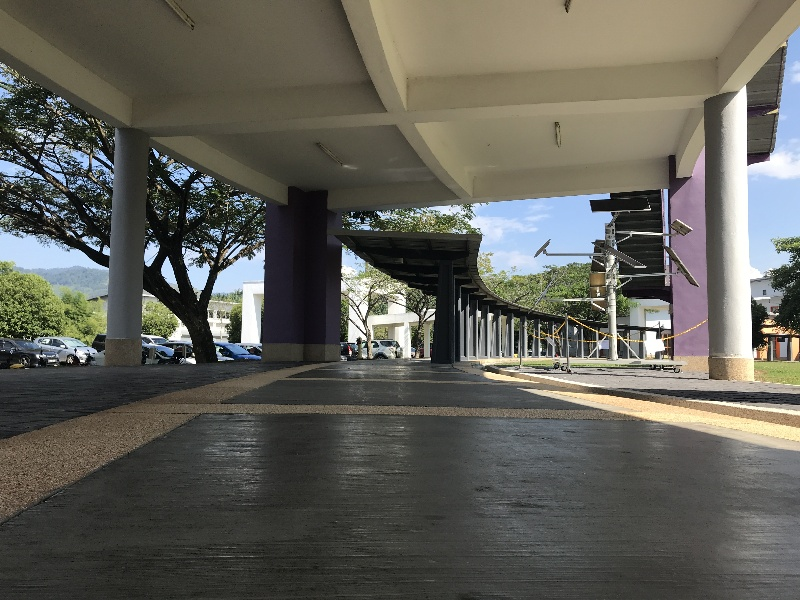Block D Pillar 5: (9, 7, 800, 507)
pillar: (682, 75, 764, 392), (652, 137, 722, 384), (259, 175, 348, 368), (100, 118, 146, 367), (431, 251, 458, 375)
